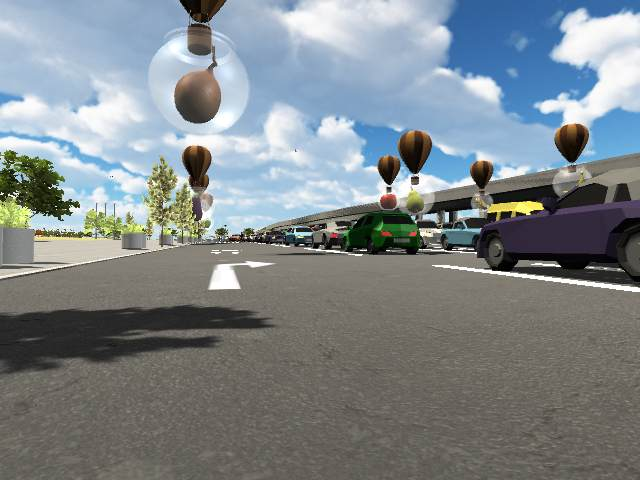ground_right: (210, 259, 280, 271)
